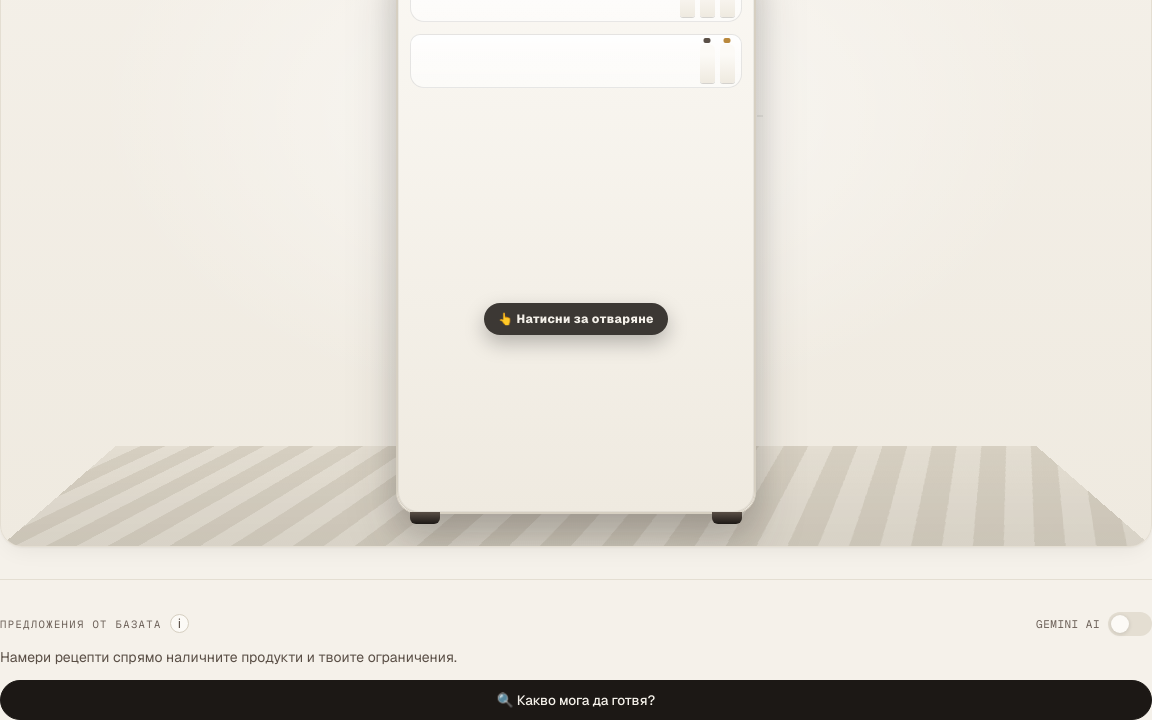
Test case: FridgeScreen – translate button visibility › does not show translate button for local database recipes without an English name
(page scrolled)
Step 1. Click the button "🔍 Какво мога да готвя?" → x=576, y=700, box [0,680,1151,719]
(page scrolled)
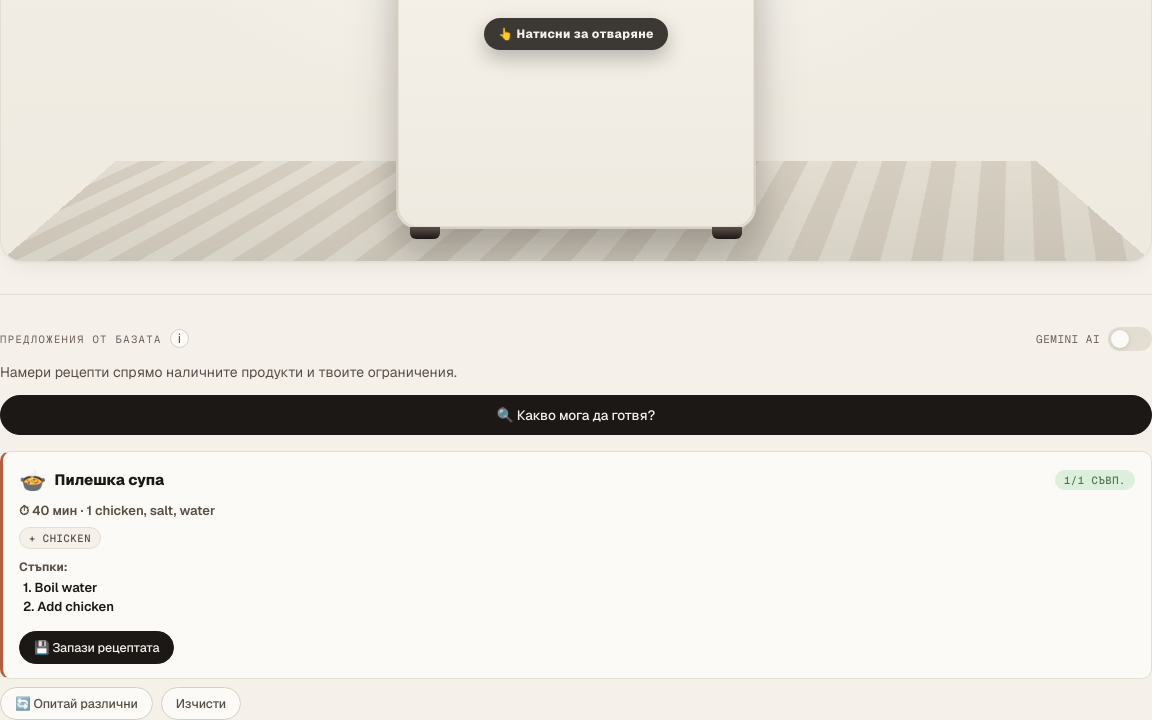
Expected: the text "Пилешка супа" is shown, [54,470,164,490]
